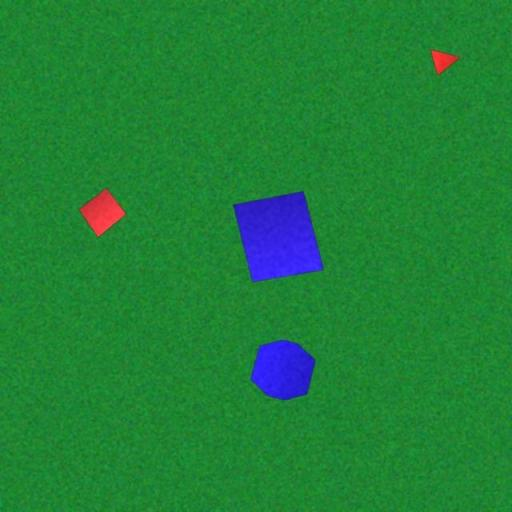BLUE_SQUARE: (233, 190, 325, 284)
RED_SQUARE: (78, 188, 127, 238)
